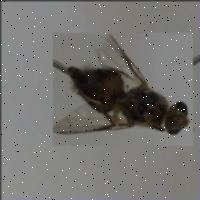Oriental-fruit-fly: (52, 32, 192, 145)
